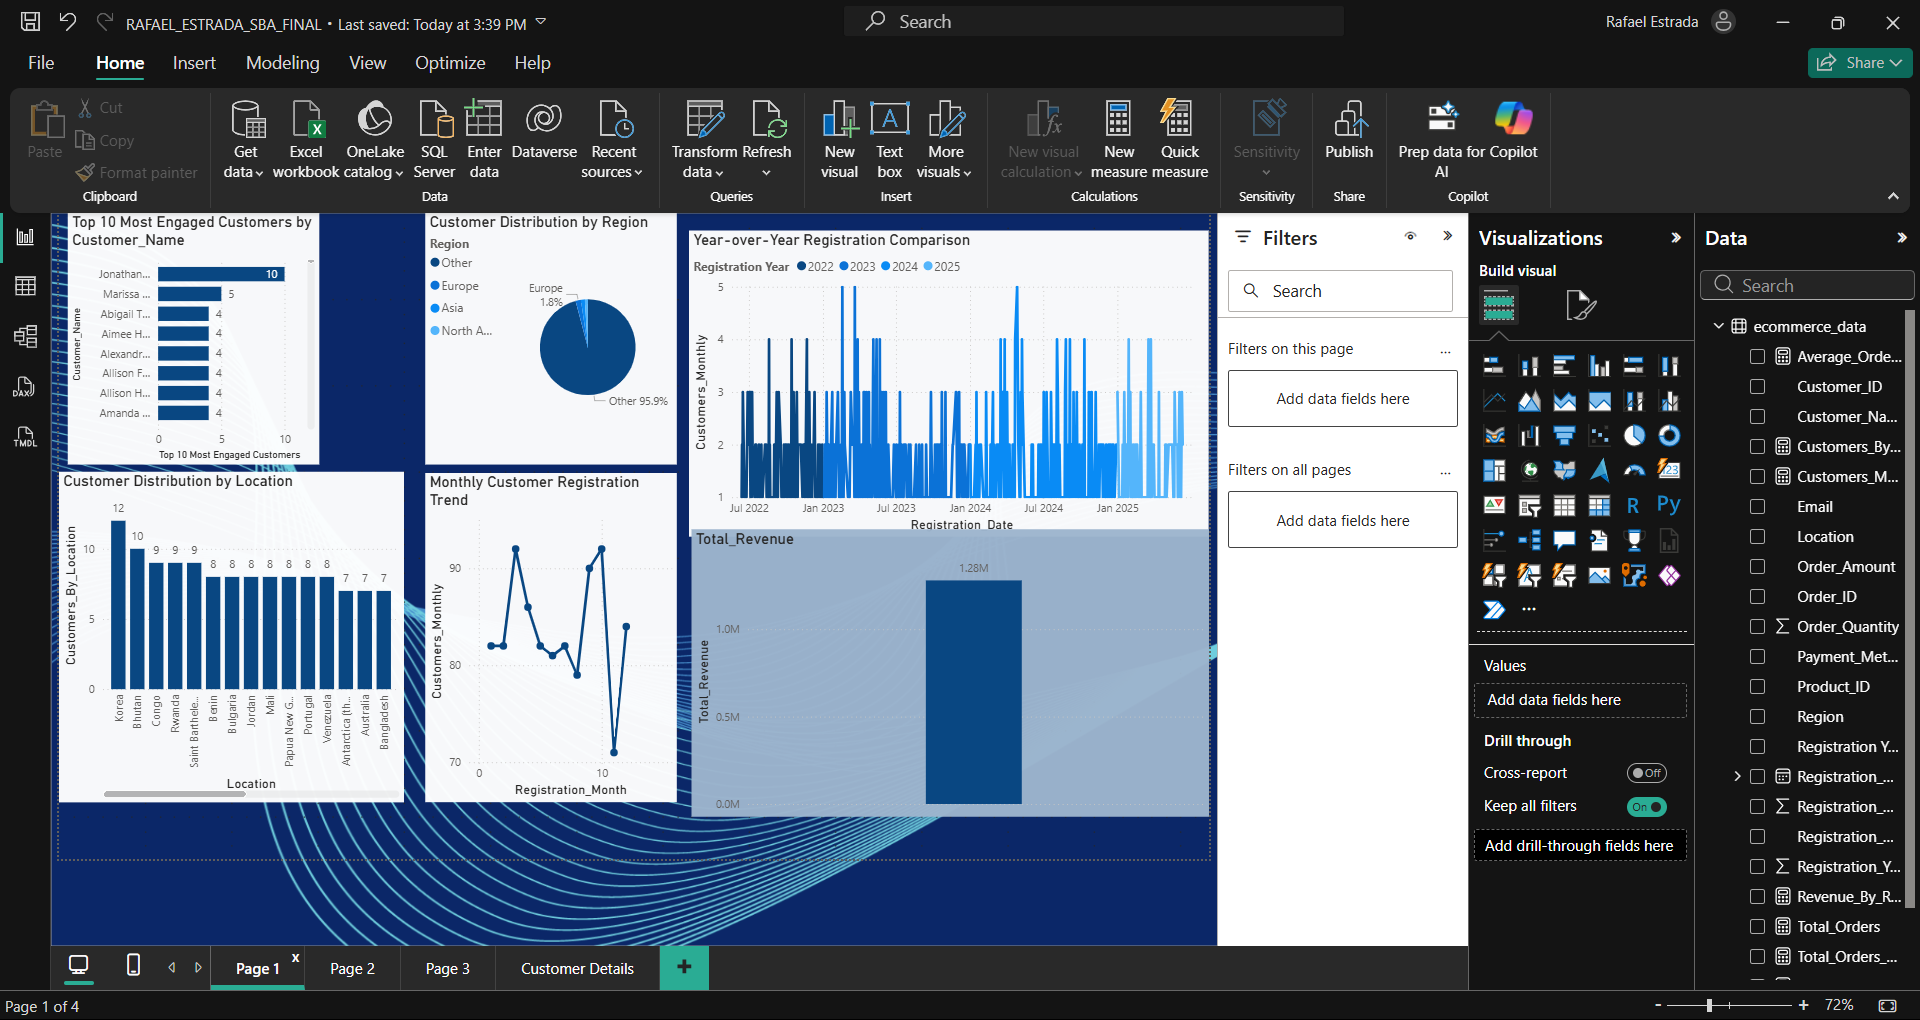

What the dashboard file says about the page in this screenshot:
{"tool":"powerbi","page":{"name":"Page 1","canvas":[1280,720],"ordinal":0},"visuals":[{"type":"clusteredBarChart","fields":{"Category":["ecommerce_data.Customer_Name"],"Y":["ecommerce_data.Total_Orders_By_Customer"]},"box":[10,0,280,280],"z":0},{"type":"clusteredColumnChart","title":"Customer Distribution by Location","fields":{"Category":["ecommerce_data.Location"],"Y":["ecommerce_data.Customers_By_Location"]},"box":[0,288,384,368],"z":1000},{"type":"pieChart","title":"Customer Distribution by Region","fields":{"Category":["ecommerce_data.Region"],"Y":["ecommerce_data.Unique_Customers"]},"box":[408,0,280,280],"z":2000},{"type":"lineChart","title":"Monthly Customer Registration Trend","fields":{"Category":["ecommerce_data.Registration_Month"],"Y":["ecommerce_data.Customers_Monthly"]},"box":[408,290,280,366],"z":3000},{"type":"lineChart","title":"Year-over-Year Registration Comparison","fields":{"Series":["ecommerce_data.Registration Year"],"Category":["ecommerce_data.Registration_Date"],"Y":["ecommerce_data.Customers_Monthly"]},"box":[701.3,20,578.7,340.7],"z":4000},{"type":"columnChart","fields":{"Y":["ecommerce_data.Total_Revenue"]},"box":[704,352,576,320],"z":5000}]}

Visuals, with their boxes on the page's 1280x720 design canvas (x1, y1, x2, y2). These are canvas units, not pixel positions in the 1920x1020 screenshot, which may show the page scaled, cropped or inside an application window:
clusteredBarChart - ecommerce_data.Customer_Name x ecommerce_data.Total_Orders_By_Customer: bbox=[10, 0, 290, 280]
"Customer Distribution by Location" clusteredColumnChart: bbox=[0, 288, 384, 656]
"Customer Distribution by Region" pieChart: bbox=[408, 0, 688, 280]
"Monthly Customer Registration Trend" lineChart: bbox=[408, 290, 688, 656]
"Year-over-Year Registration Comparison" lineChart: bbox=[701, 20, 1280, 361]
columnChart - ecommerce_data.Total_Revenue: bbox=[704, 352, 1280, 672]
